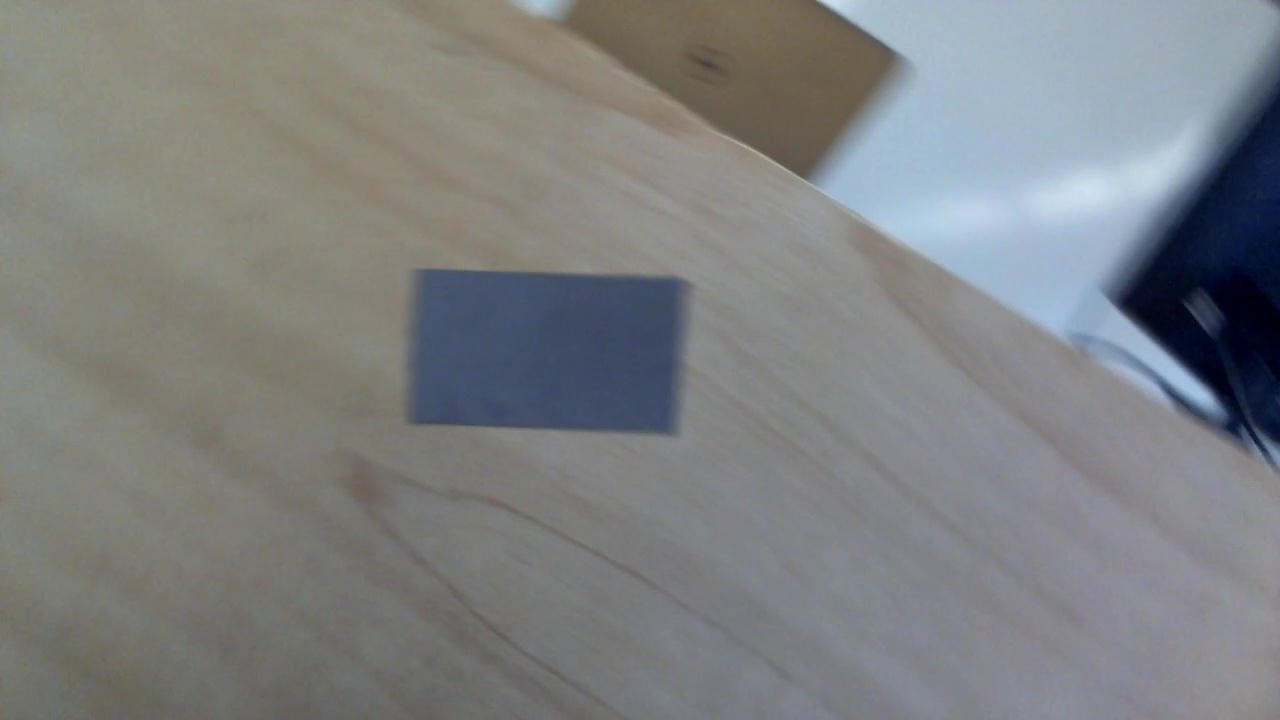Tape: (407, 268, 693, 441)
